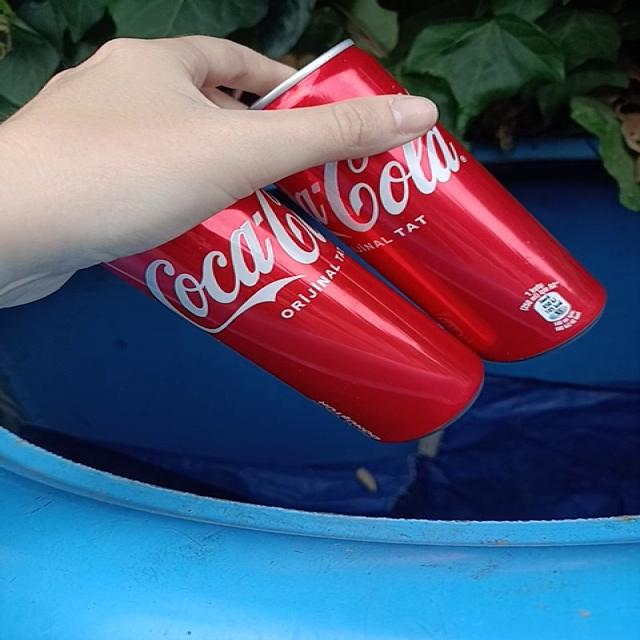metal: (108, 191, 481, 442), (279, 125, 607, 362), (253, 40, 404, 109)
